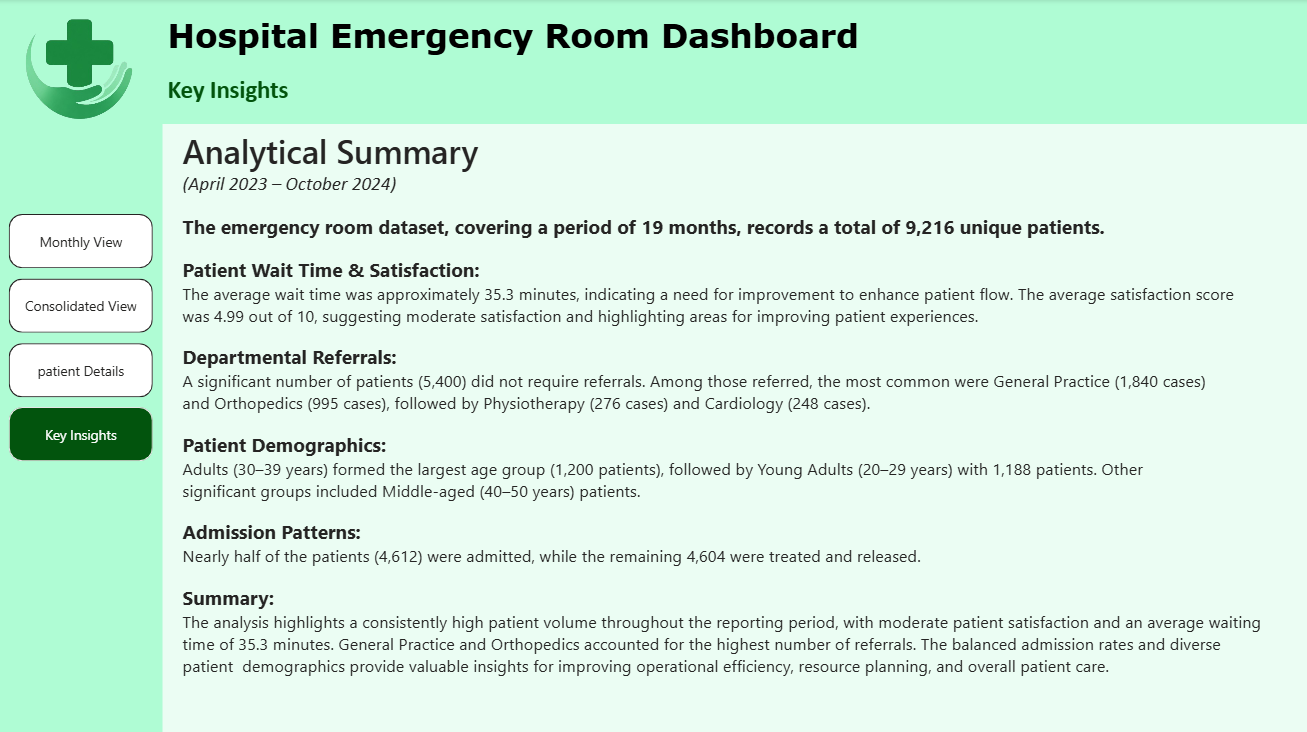

This screenshot's page, from the dashboard's own definition file:
{"tool":"powerbi","page":{"name":"Key Insights","canvas":[1280,720],"ordinal":3},"visuals":[{"type":"shape","box":[0,0,159,720.2],"z":0},{"type":"shape","box":[0,0,1280.3,122.3],"z":1000},{"type":"textbox","box":[159,11,783.8,62.4],"z":2000},{"type":"textbox","box":[159,68.5,377.9,48.9],"z":5000},{"type":"image","box":[0,0,157.7,133.3],"z":6000},{"type":"textbox","box":[159,122,1121,598],"z":7000},{"type":"pageNavigator","box":[9,210.3,141,244.9],"z":8000}]}

Visuals, with their boxes in screenshot pixels (x1, y1, x2, y2), scaled from the page's 1280x720 canvas onto the 1307x732 screenshot:
shape: <bbox>0, 0, 162, 731</bbox>
shape: <bbox>0, 0, 1306, 124</bbox>
textbox: <bbox>162, 11, 963, 75</bbox>
textbox: <bbox>162, 70, 548, 119</bbox>
image: <bbox>0, 0, 161, 136</bbox>
textbox: <bbox>162, 124, 1306, 731</bbox>
pageNavigator: <bbox>9, 214, 153, 463</bbox>
